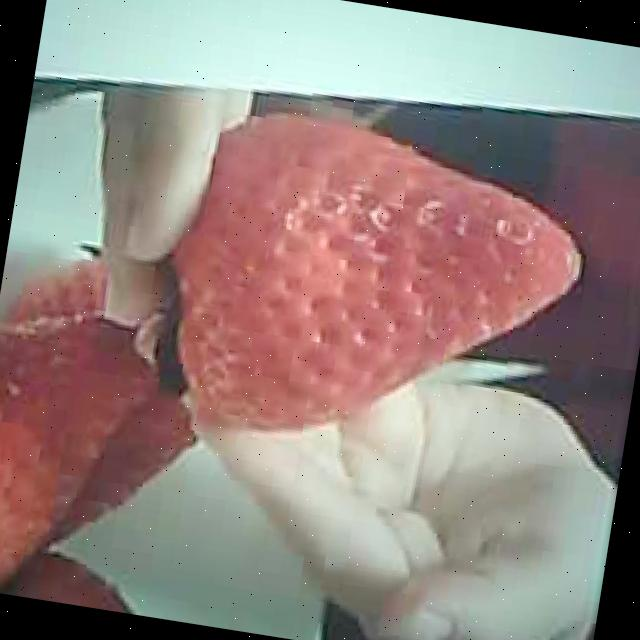strawberry: (169, 104, 596, 472)
